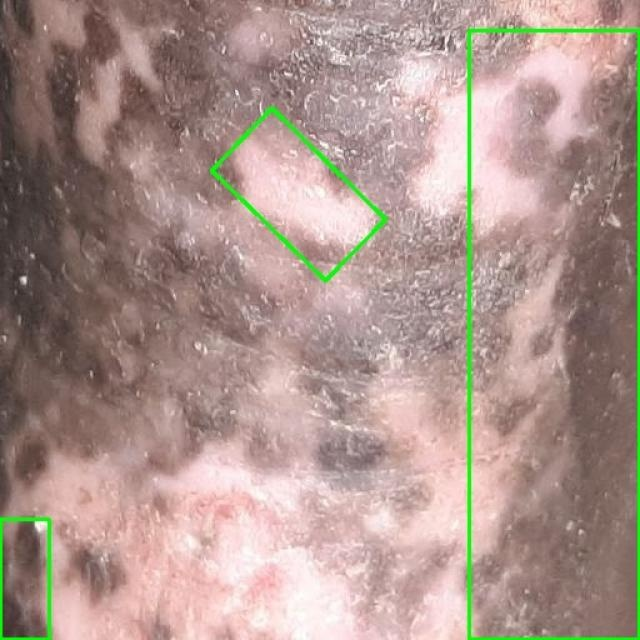Eczema: (469, 30, 639, 639), (212, 109, 386, 281), (0, 519, 49, 639)
